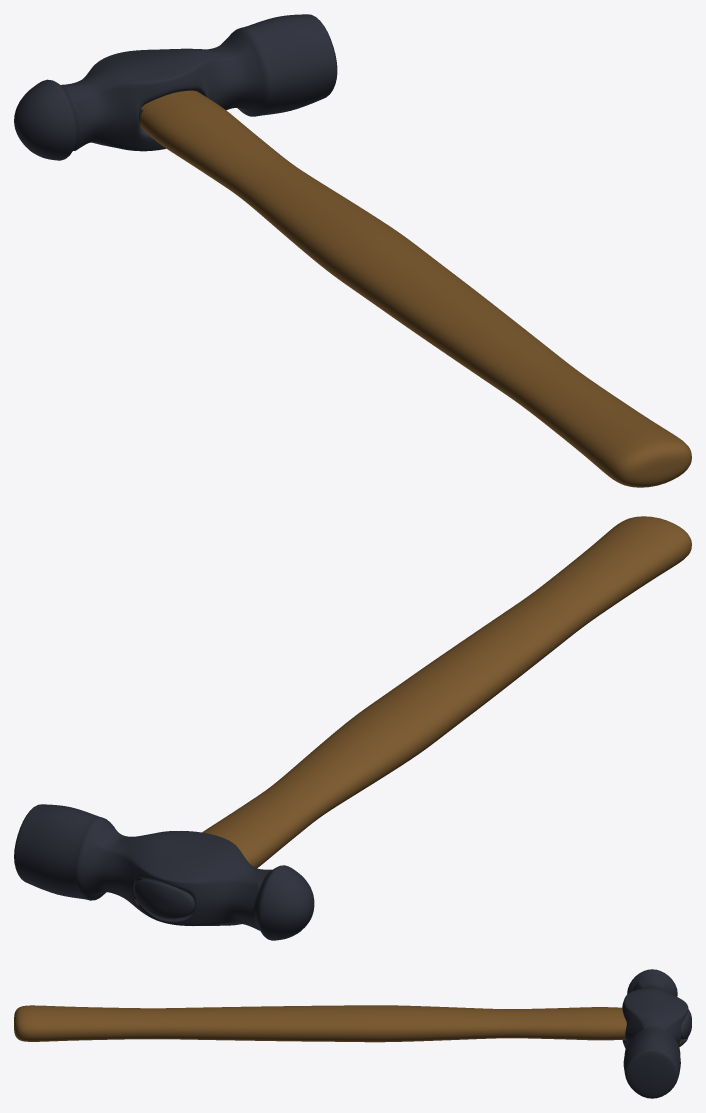
Rendered from ball_peen_hammer_hp.fbx.
3 views of the same model, one above another, from view 1: azimuth 30°, elevation 25°; view 2: azimuth 150°, elevation 25°; view 3: azimuth 270°, elevation 25° (orthographic). The views are drawn at different scales.
Visible parts, largest first — view 1: Bell_Hammer; view 2: Bell_Hammer; view 3: Bell_Hammer.
Boxes of the visible parts, x1,y1,x2,y2 form: Bell_Hammer: [14, 14, 691, 487]; Bell_Hammer: [14, 516, 691, 940]; Bell_Hammer: [14, 969, 691, 1098].
Bounding box in the file's own units: 10.45 × 2.95 × 32.43.
